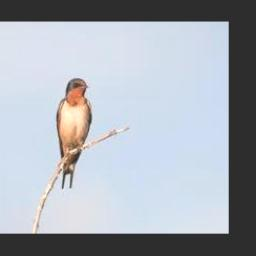Swallow: (57, 78, 91, 188)
